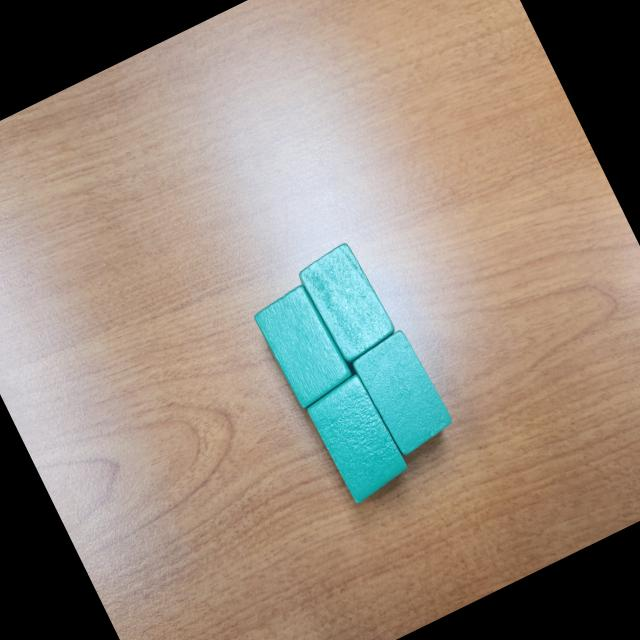green: (347, 326, 459, 461), (301, 370, 413, 504), (248, 280, 358, 410), (293, 238, 401, 369)
